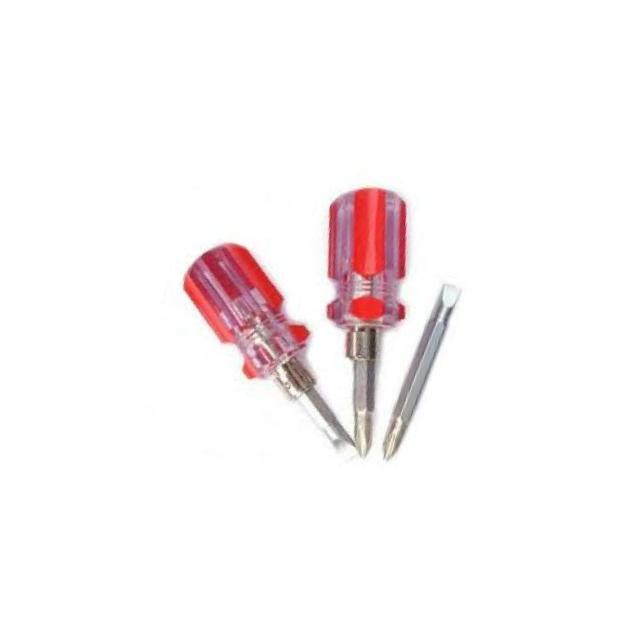screwdriver: (146, 230, 404, 466), (269, 174, 436, 460)
